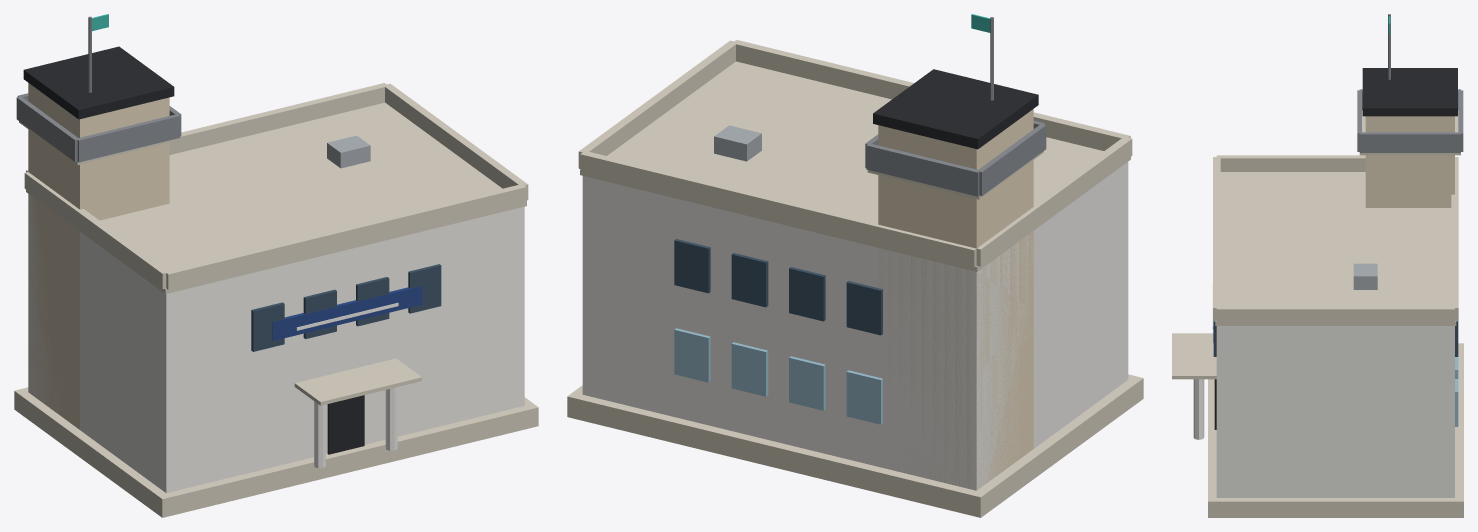
File: building.police-station.glb
3 renders of one model, left to right at view 1: azimuth 30°, elevation 25°; view 2: azimuth 150°, elevation 25°; view 3: azimuth 270°, elevation 25°, orthographic. The views are drawn at different scales.
Visible parts, largest first — view 1: building.police-station; view 2: building.police-station; view 3: building.police-station.
Part boxes in pixels (x1=…): building.police-station: x1=14, y1=14, x2=538, y2=517; building.police-station: x1=567, y1=14, x2=1143, y2=517; building.police-station: x1=1172, y1=14, x2=1463, y2=517.
Size of the model in its own units: 12.6 by 13.3 by 9.8.
